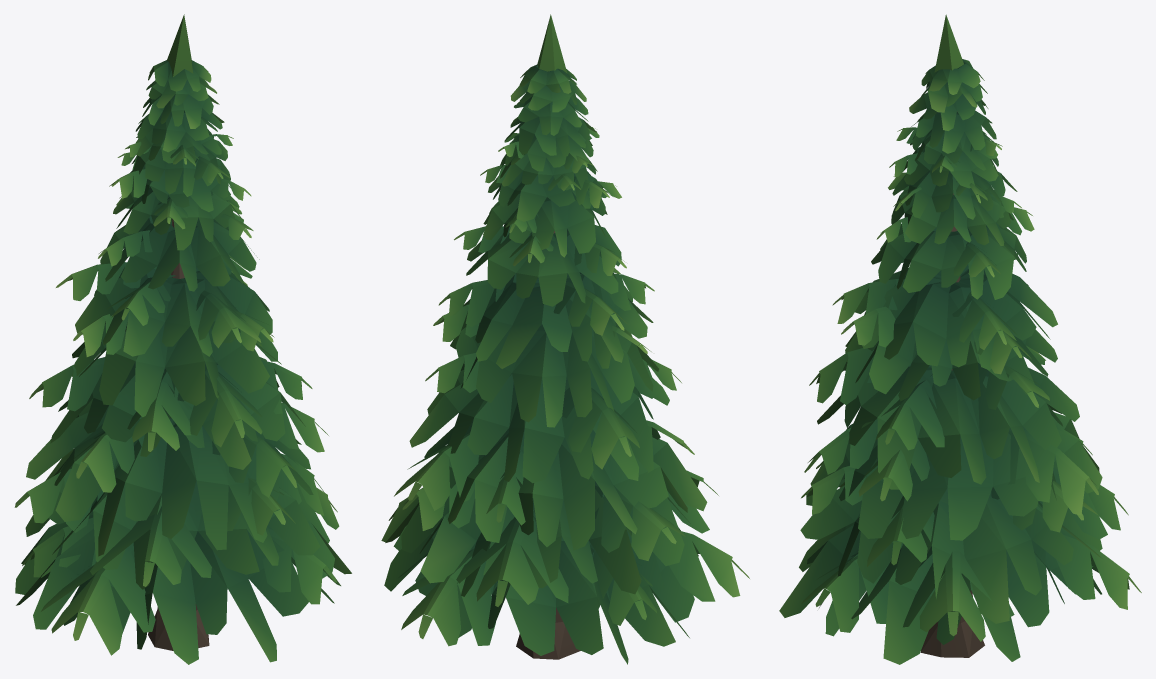
File: spruce_M_normal_std_top_dense_s37.glb
3 views of the same model, side by side, from view 1: azimuth 30°, elevation 25°; view 2: azimuth 150°, elevation 25°; view 3: azimuth 270°, elevation 25° (orthographic).
Parts seen in each view (by area): view 1: Tree; view 2: Tree; view 3: Tree.
Part boxes in pixels (bbox=[...]): Tree: bbox=[14, 14, 351, 664]; Tree: bbox=[381, 14, 749, 664]; Tree: bbox=[779, 14, 1141, 664].
Size of what is drawn, in the model's own units: 3.15 by 5.95 by 3.09.
